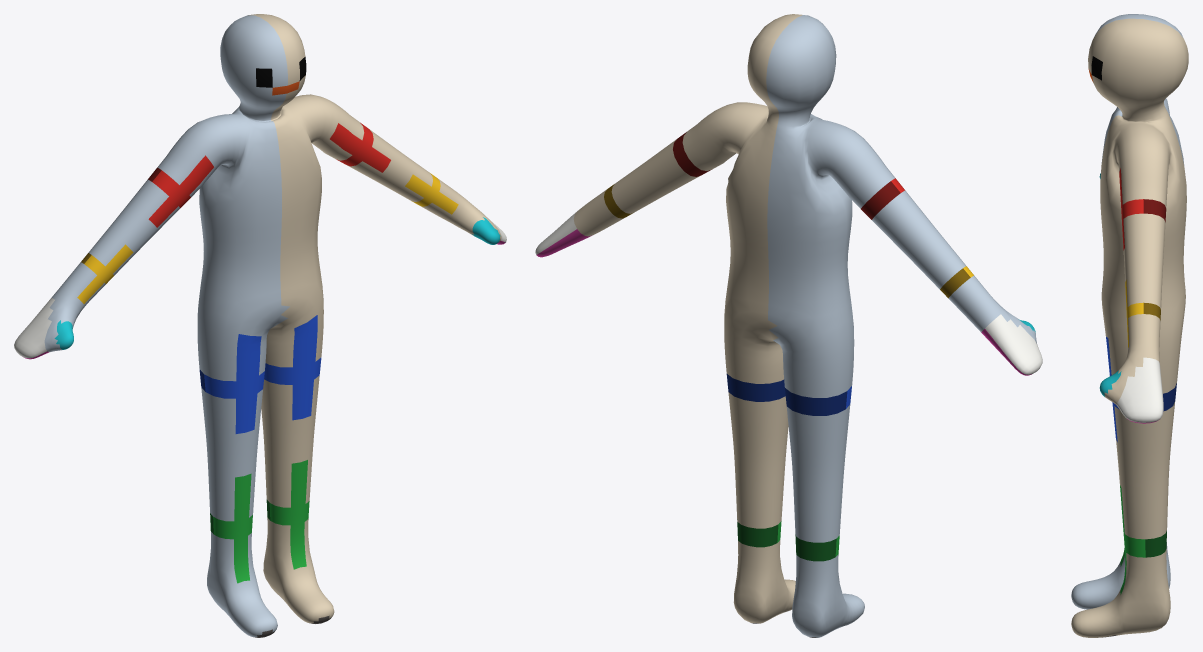
Rendered from mannequin-human.glb.
3 renders of one model, left to right at view 1: azimuth 30°, elevation 25°; view 2: azimuth 150°, elevation 25°; view 3: azimuth 270°, elevation 25°, orthographic. The views are drawn at different scales.
Visible parts, largest first — view 1: MannequinAPose; view 2: MannequinAPose; view 3: MannequinAPose.
Part boxes in pixels (x1,y1,x2,y2): MannequinAPose: (14, 14, 506, 637); MannequinAPose: (535, 14, 1042, 637); MannequinAPose: (1071, 14, 1188, 637).
Bounding box in the file's own units: 1.54 × 1.8 × 0.318.
1 material, 1 textured.
